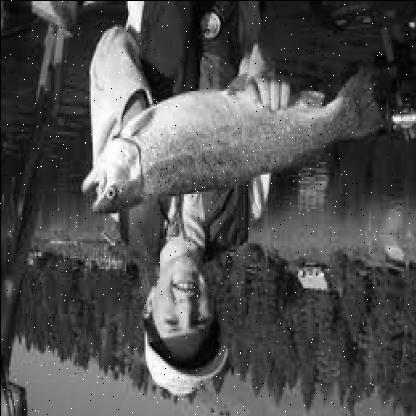fish: (83, 69, 384, 218)
